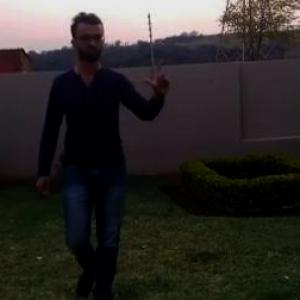land_hand: (140, 52, 178, 96)
